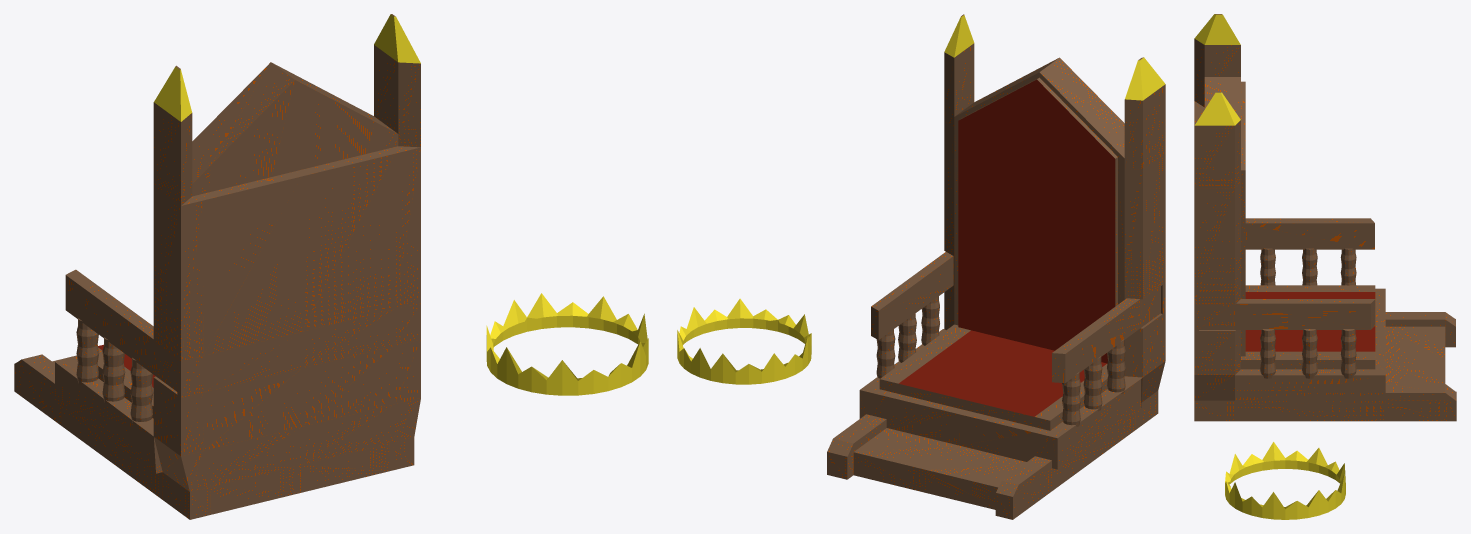
The model's file is Trone.fbx.
3 renders of one model, left to right at view 1: azimuth 30°, elevation 25°; view 2: azimuth 150°, elevation 25°; view 3: azimuth 270°, elevation 25°, orthographic. The views are drawn at different scales.
Visible parts, largest first — view 1: Trone, Krone; view 2: Trone, Krone; view 3: Trone, Krone.
Boxes of the visible parts, left/top/right/bottom form: Trone: left=14, top=14, right=420, bottom=519; Krone: left=486, top=293, right=648, bottom=395; Trone: left=827, top=14, right=1165, bottom=519; Krone: left=677, top=298, right=811, bottom=384; Trone: left=1194, top=14, right=1456, bottom=421; Krone: left=1225, top=442, right=1345, bottom=519.
Bounding box in the file's own units: 2476 × 2006 × 1456.
